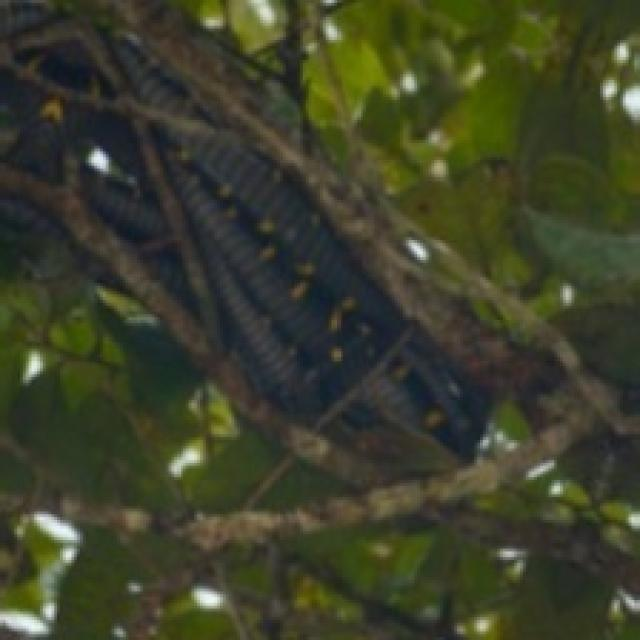mangrove cat snake: (0, 3, 486, 483)
